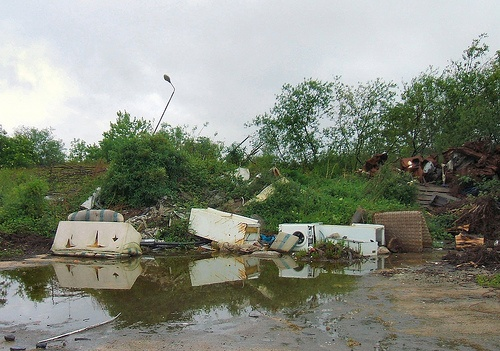rubble: (62, 199, 437, 261)
